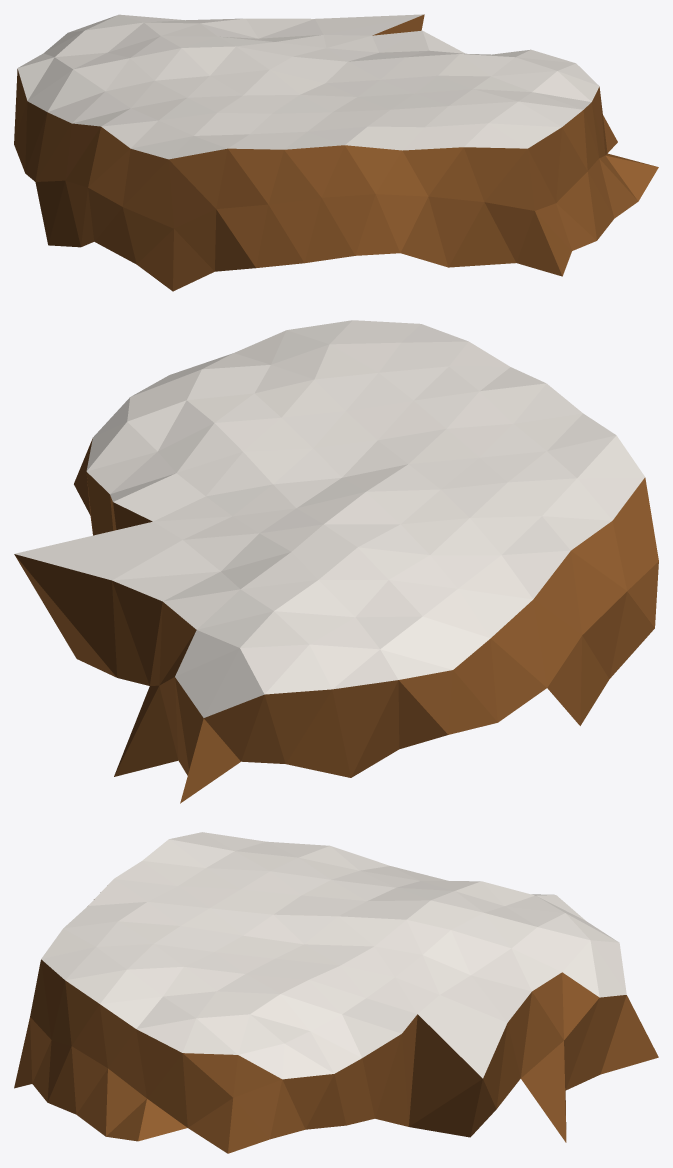
The model's file is big_snow_relief_1.fbx.
3 views of the same model, one above another, from view 1: azimuth 30°, elevation 25°; view 2: azimuth 150°, elevation 25°; view 3: azimuth 270°, elevation 25° (orthographic). The views are drawn at different scales.
Visible parts, largest first — view 1: Icosphere.267; view 2: Icosphere.267; view 3: Icosphere.267.
Boxes of the visible parts, x1,y1,x2,y2 form: Icosphere.267: (14, 14, 658, 291); Icosphere.267: (14, 320, 658, 803); Icosphere.267: (14, 832, 658, 1153).
Bounding box in the file's own units: 1810 × 699 × 2063.
